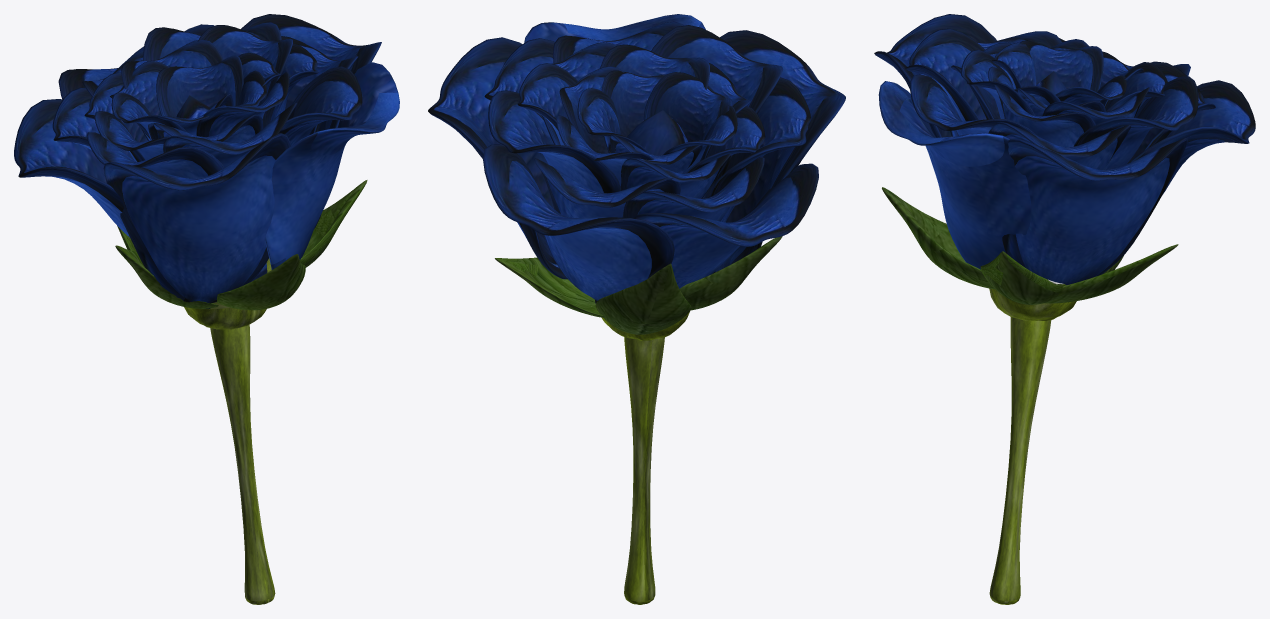
Rendered from rose.fbx.
3 renders of one model, left to right at view 1: azimuth 30°, elevation 25°; view 2: azimuth 150°, elevation 25°; view 3: azimuth 270°, elevation 25°, orthographic. The views are drawn at different scales.
Visible parts, largest first — view 1: polySurface44, polySurface43, polySurface71, polySurface40, polySurface64, polySurface50, polySurface45, polySurface42, polySurface65, polySurface56, polySurface51, polySurface70 (+17 smaller); view 2: polySurface41, polySurface40, polySurface71, polySurface42, polySurface44, polySurface48, polySurface51, polySurface69, polySurface45, polySurface61, polySurface47, polySurface46 (+18 smaller); view 3: polySurface42, polySurface43, polySurface71, polySurface41, polySurface48, polySurface51, polySurface65, polySurface62, polySurface50, polySurface44, polySurface68, polySurface49 (+14 smaller).
Part boxes in pixels (x1,y1,x2,y2): polySurface44: (103, 133, 290, 303); polySurface43: (265, 62, 399, 269); polySurface71: (210, 325, 275, 604); polySurface40: (14, 99, 129, 237); polySurface64: (156, 55, 243, 117); polySurface50: (279, 66, 362, 145); polySurface45: (86, 132, 224, 178); polySurface42: (240, 14, 381, 228); polySurface65: (216, 254, 305, 310); polySurface56: (197, 25, 292, 106); polySurface51: (163, 103, 297, 167); polySurface70: (176, 95, 271, 329); polySurface41: (483, 144, 674, 300); polySurface40: (632, 163, 818, 288); polySurface71: (624, 337, 664, 604); polySurface42: (428, 37, 567, 279); polySurface44: (712, 30, 845, 273); polySurface48: (488, 90, 620, 193); polySurface51: (651, 25, 783, 198); polySurface69: (595, 263, 691, 334); polySurface45: (710, 77, 810, 222); polySurface61: (643, 72, 732, 161); polySurface47: (534, 158, 680, 217); polySurface46: (622, 157, 764, 221); polySurface42: (1002, 138, 1187, 285); polySurface43: (878, 81, 1031, 269); polySurface71: (989, 317, 1051, 604); polySurface41: (1131, 80, 1255, 195); polySurface48: (1073, 76, 1198, 169); polySurface51: (905, 28, 986, 121); polySurface65: (882, 187, 994, 289); polySurface62: (1018, 40, 1103, 92); polySurface50: (910, 74, 1037, 135); polySurface44: (874, 14, 996, 137); polySurface68: (980, 251, 1065, 304); polySurface49: (988, 122, 1131, 169).
Bounding box in the file's own units: 18.31 × 26.51 × 17.2.
4 materials, 4 textured.
